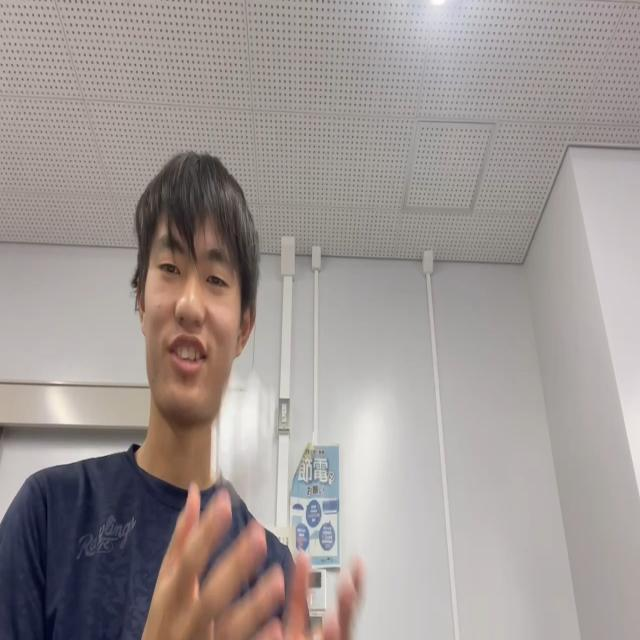paper: (218, 378, 276, 493)
